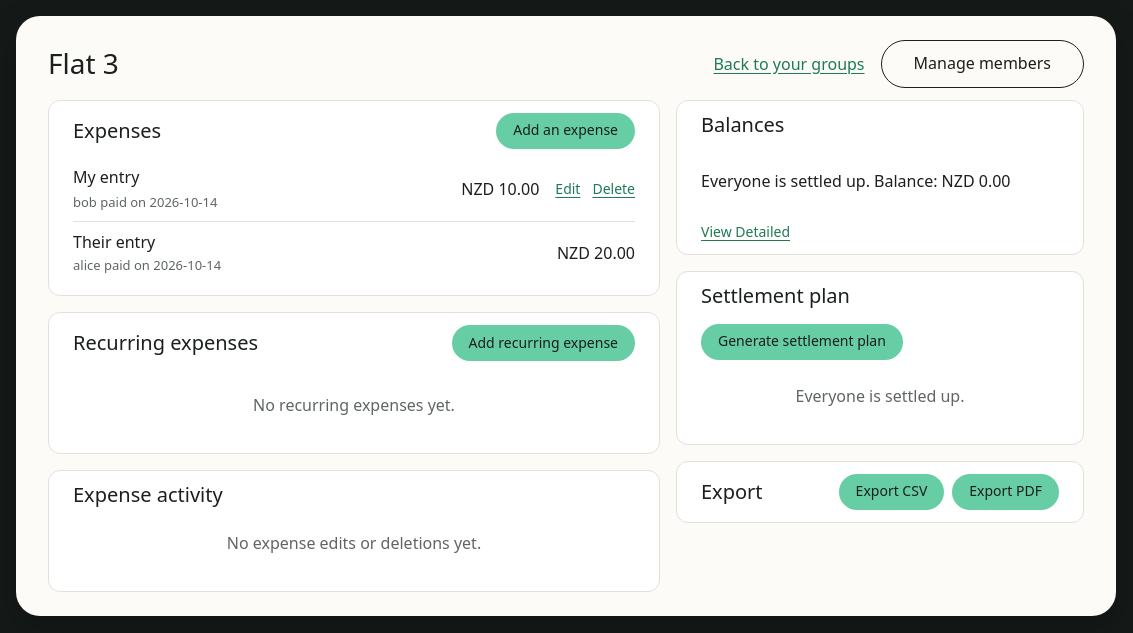
Test: AC3: cancelling then explicitly confirming sends only one deletion request
The image size is (1133, 633).
Click the button with aria-label "Delete My entry": (614, 189) [592,165,635,213]
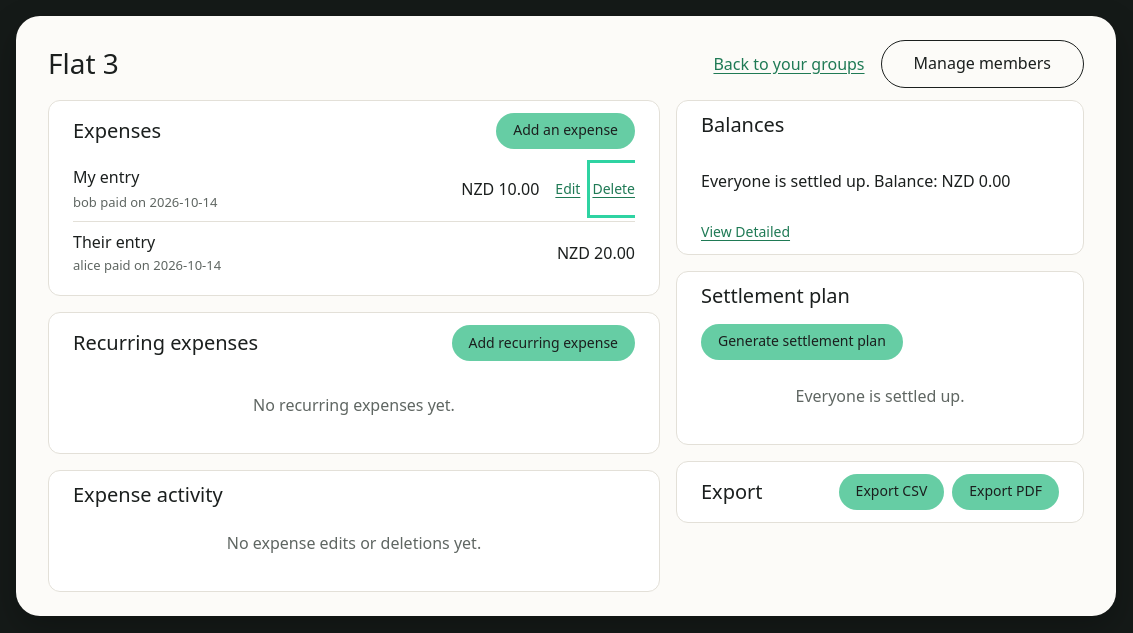
Click the button with aria-label "Delete My entry": (614, 189) [592,165,635,213]
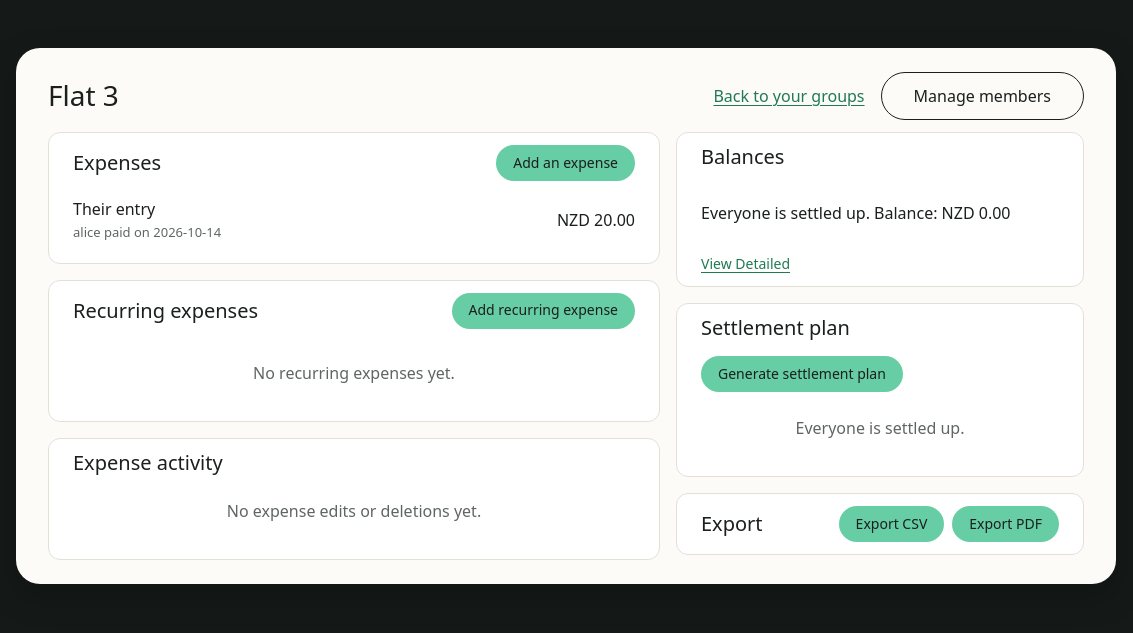
Now the text "My entry" is gone
